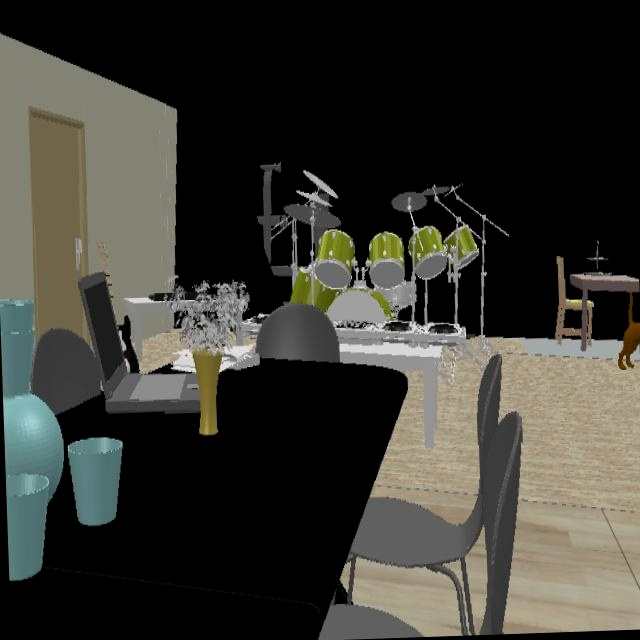chair: (319, 355, 521, 638), (555, 255, 582, 343), (587, 301, 591, 345)
laptop: (79, 273, 199, 414)
table: (9, 359, 407, 640), (570, 275, 639, 350)
